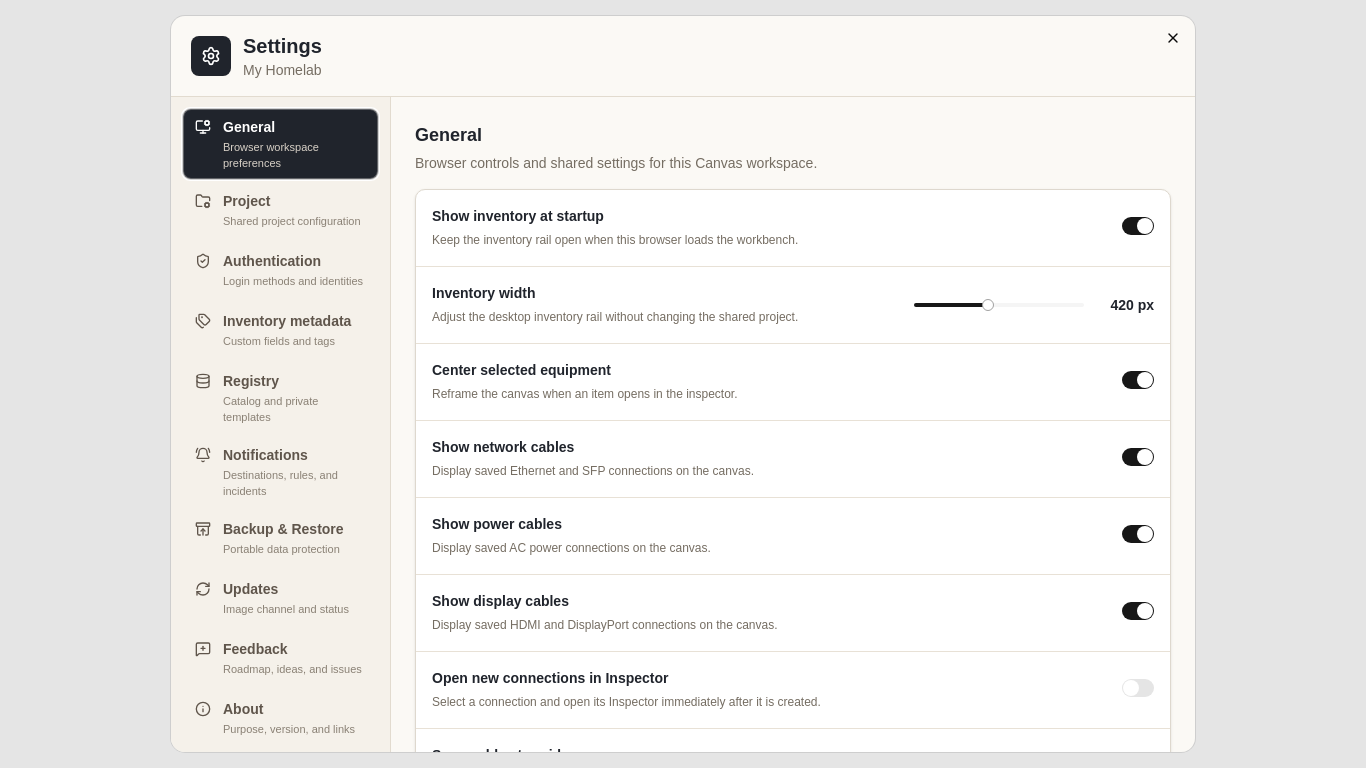
Test case: SettingsDialog › requires connected mode for contribution consent and reports delivery status
Click the button "Registry Catalog and private templates". click: coordinates (280, 398)
box: [183, 363, 378, 433]
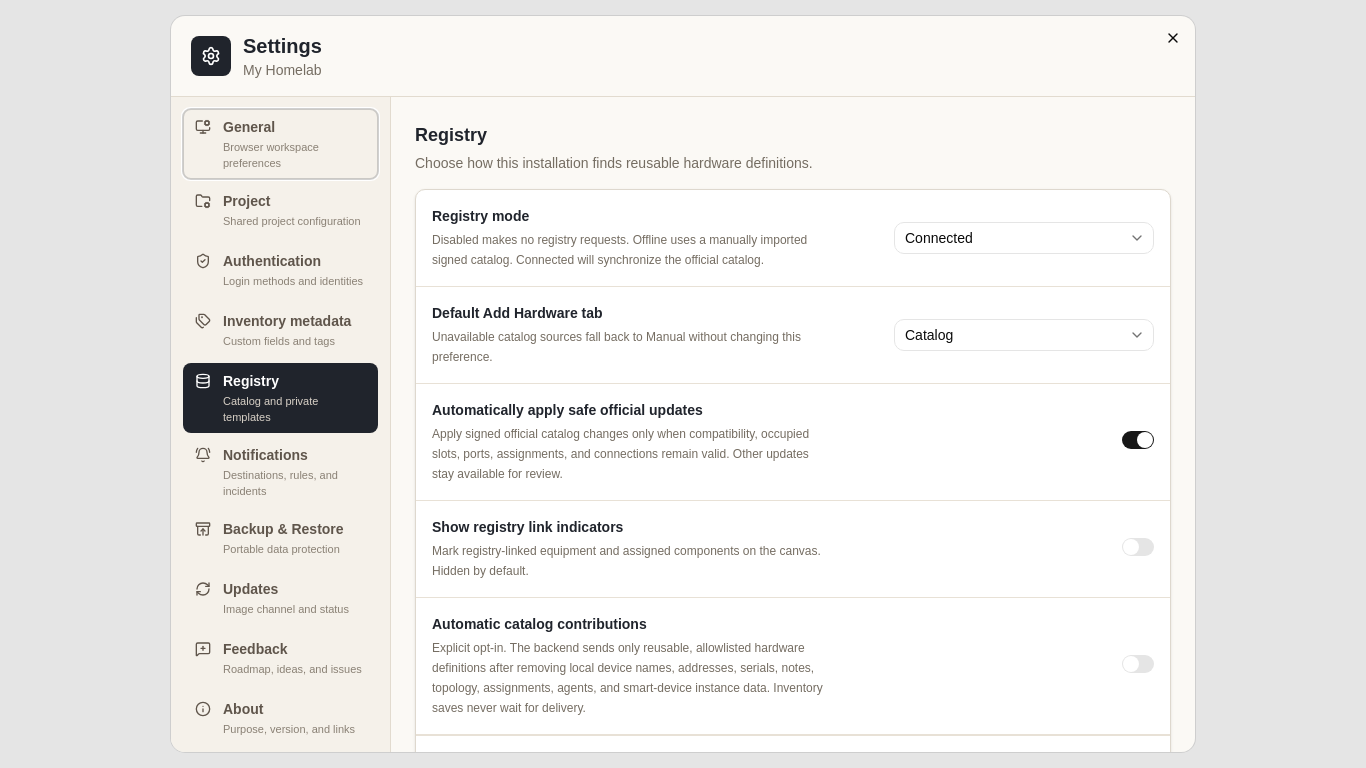
Click the switch named "Automatic catalog contributions". click: coordinates (1138, 664)
box: [1122, 655, 1154, 673]
(page scrolled)
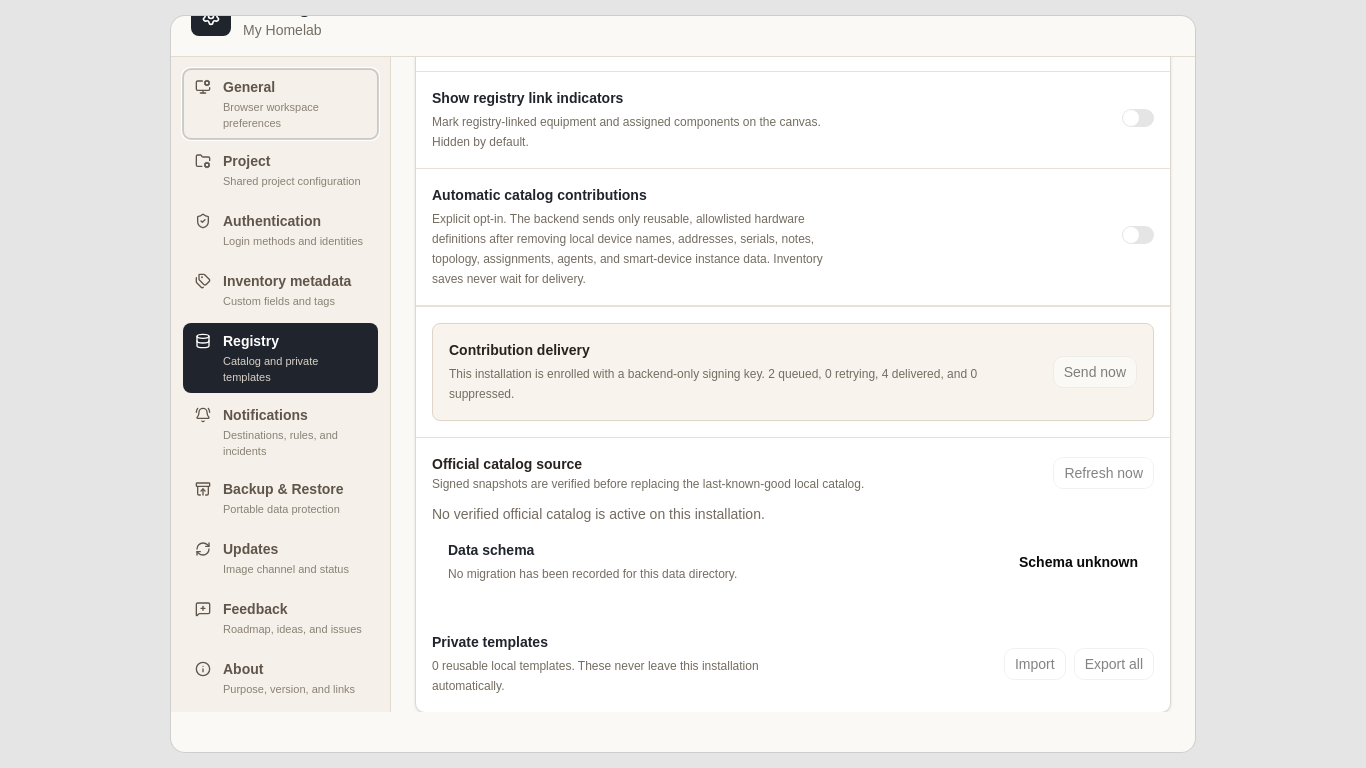
Result: the text "2 queued, 0 retrying, 4 delivered" is shown at [449, 364, 1041, 404]
